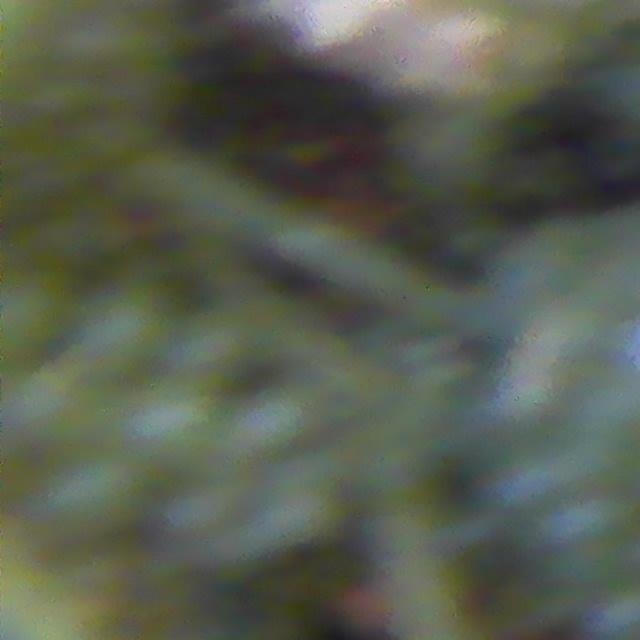SeaGrape: (46, 446, 142, 534), (79, 286, 169, 373)
